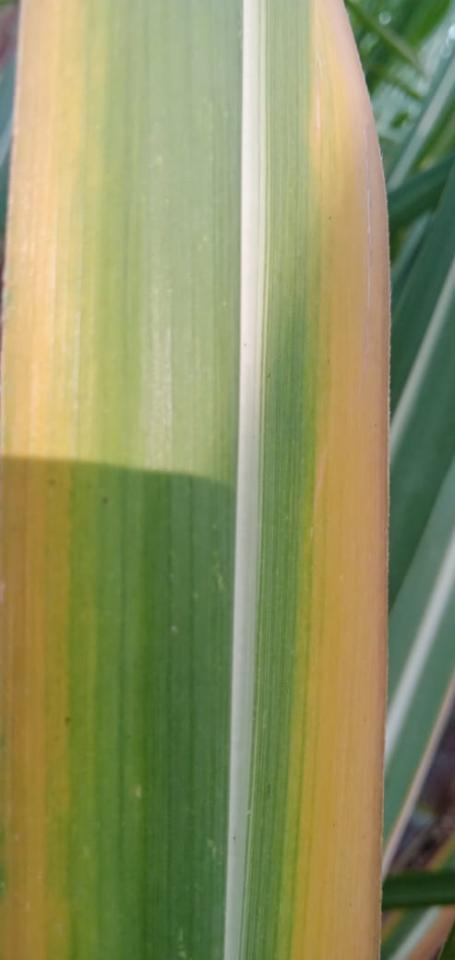Yellow: (288, 0, 389, 959), (0, 0, 89, 959)
